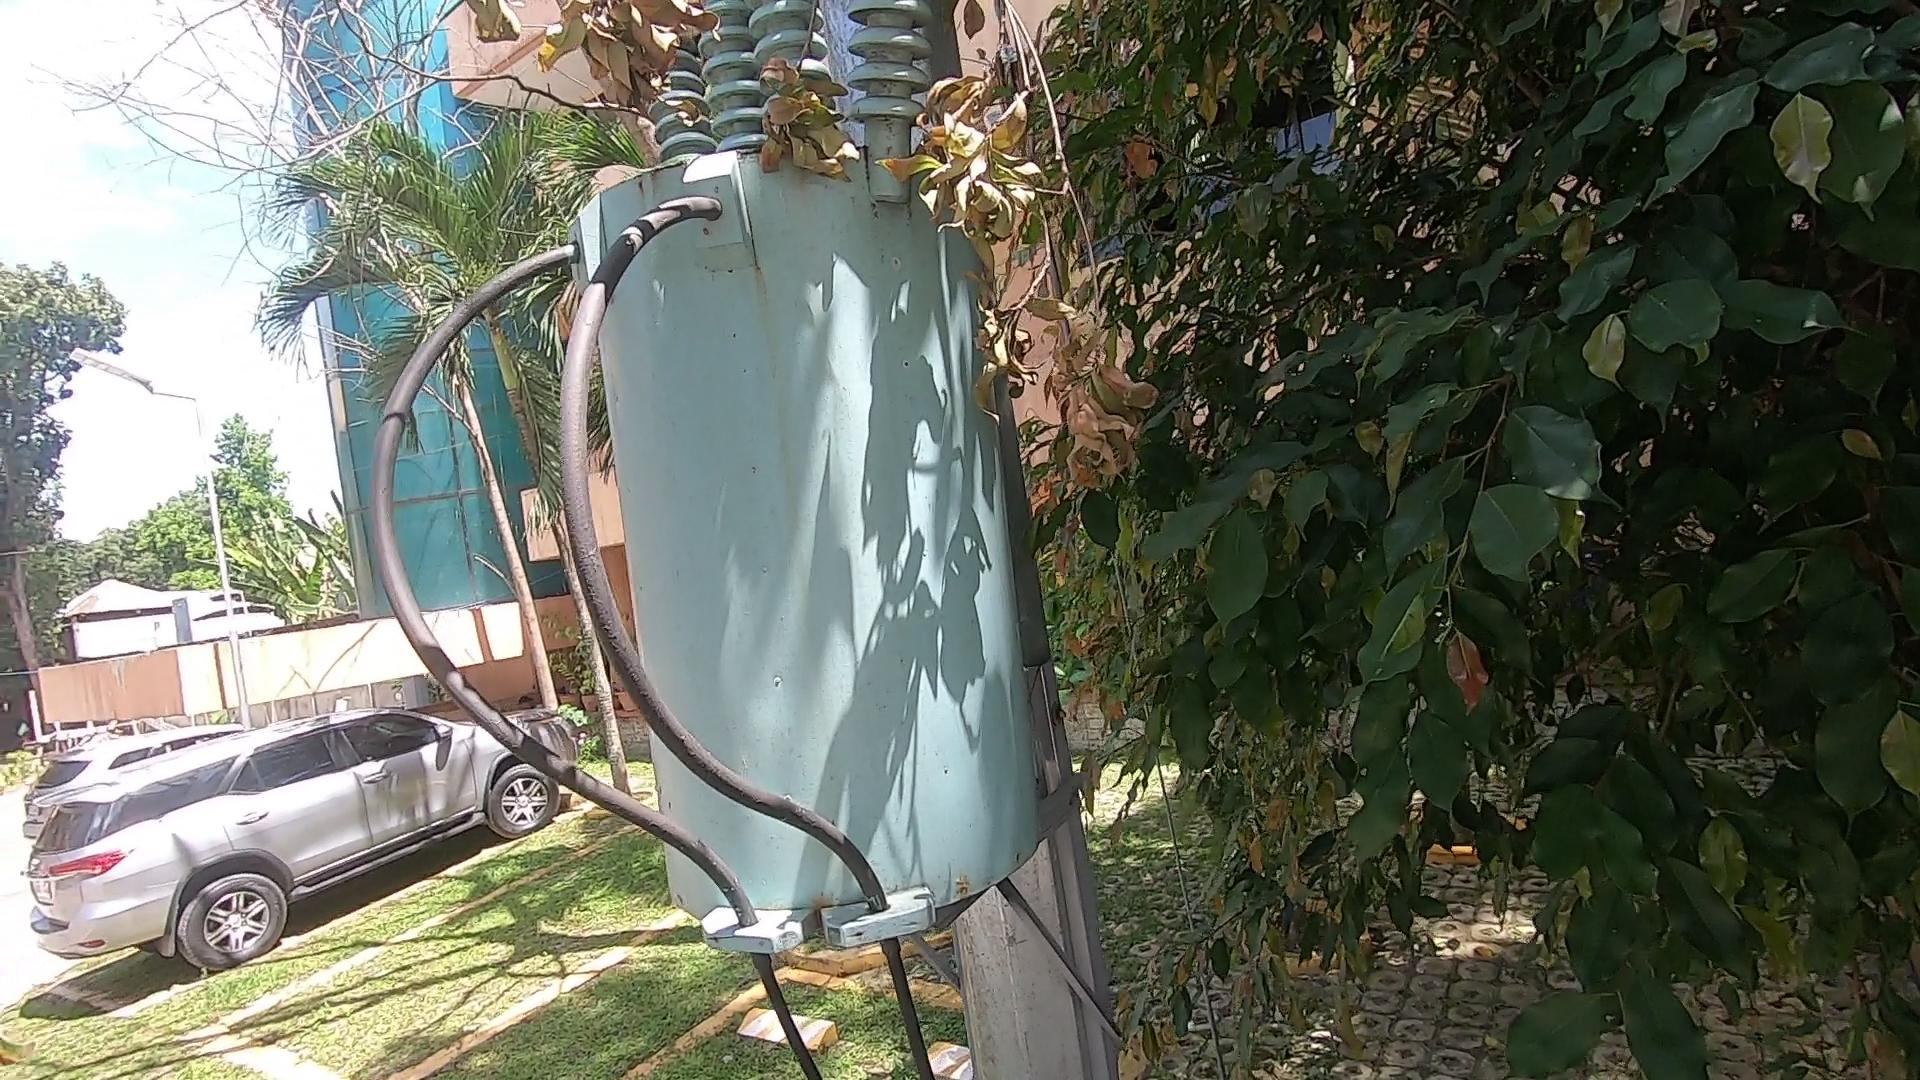branch with leaves: (924, 1, 1174, 521), (443, 1, 746, 135), (760, 1, 865, 204)
leaf: (628, 140, 705, 193)
